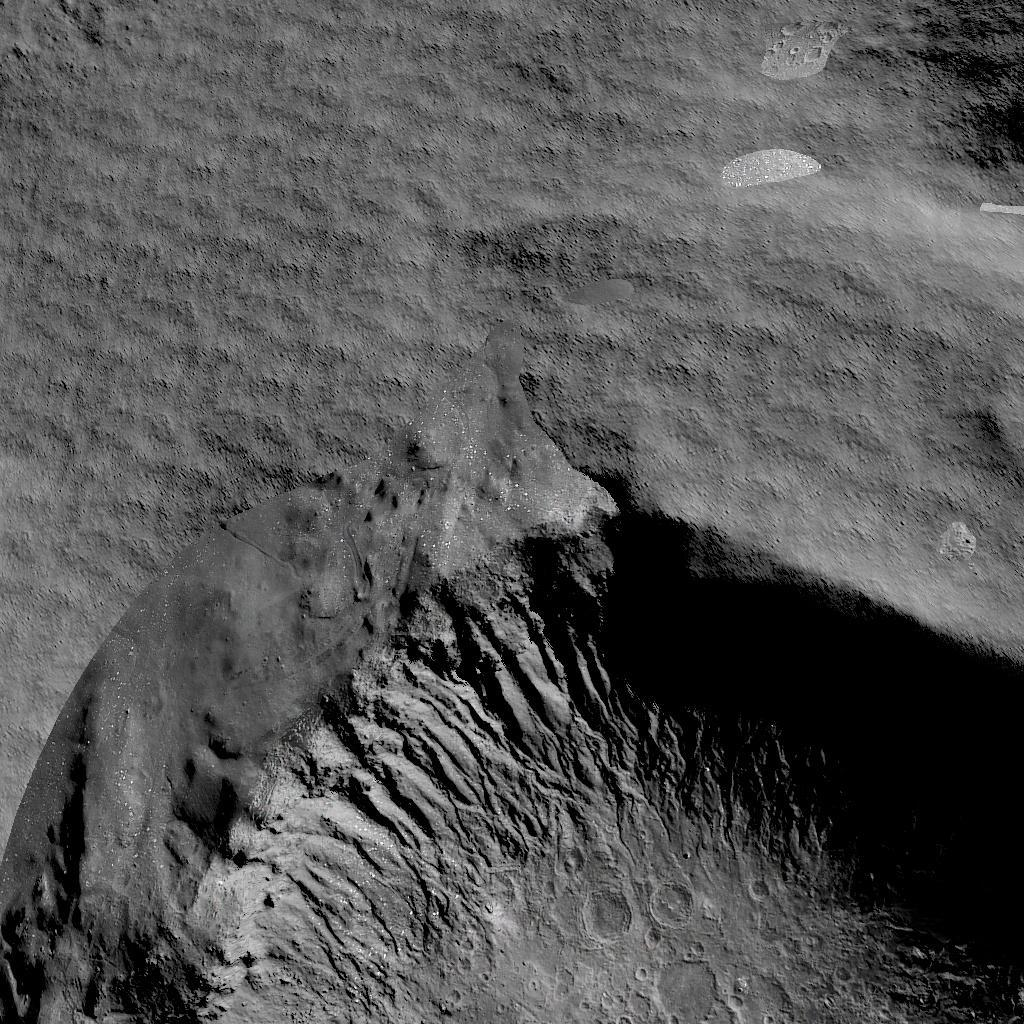Boulders: (2, 2, 144, 140)
Crater: (0, 419, 1024, 1024), (904, 0, 1021, 189)
Plan surface: (184, 0, 844, 197), (0, 226, 854, 378)
